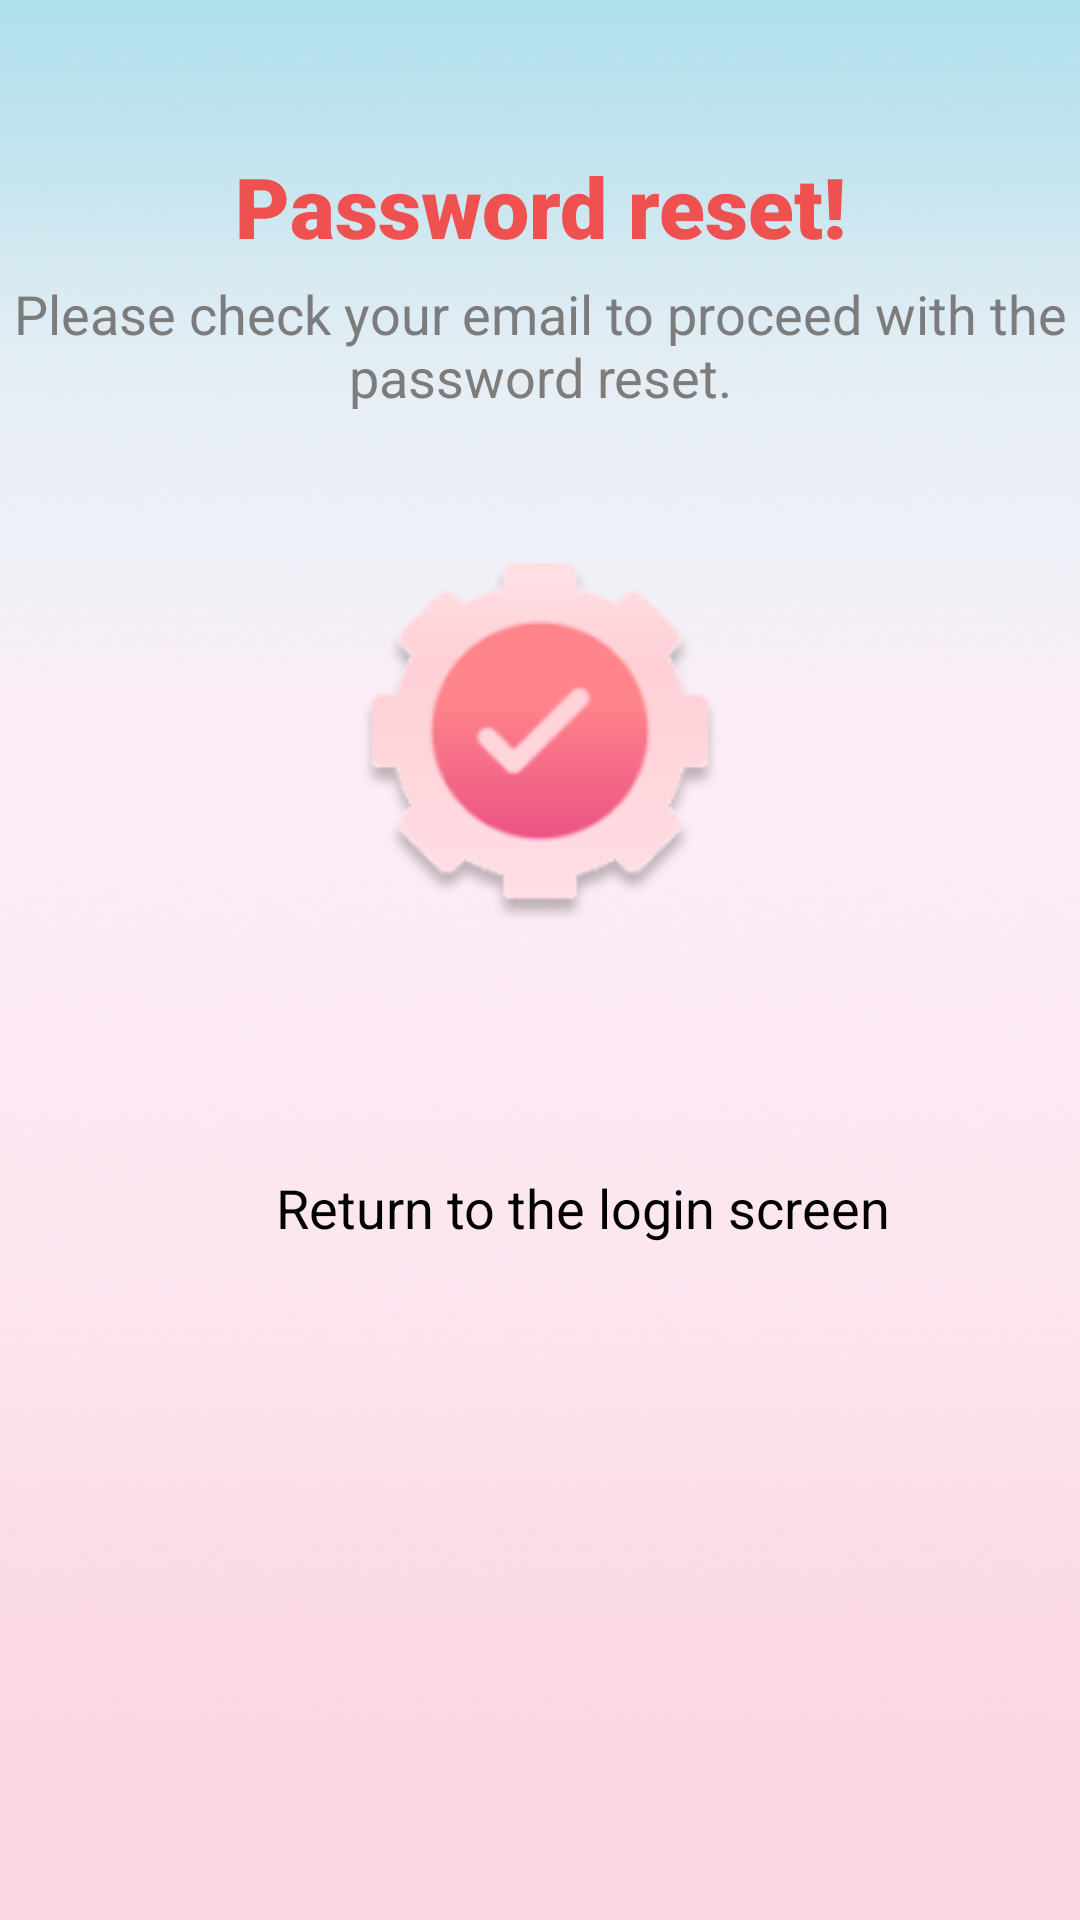

Where to tap for icons on this 1080px×1920px app screen, as (x,y):
verify: (540,745)
